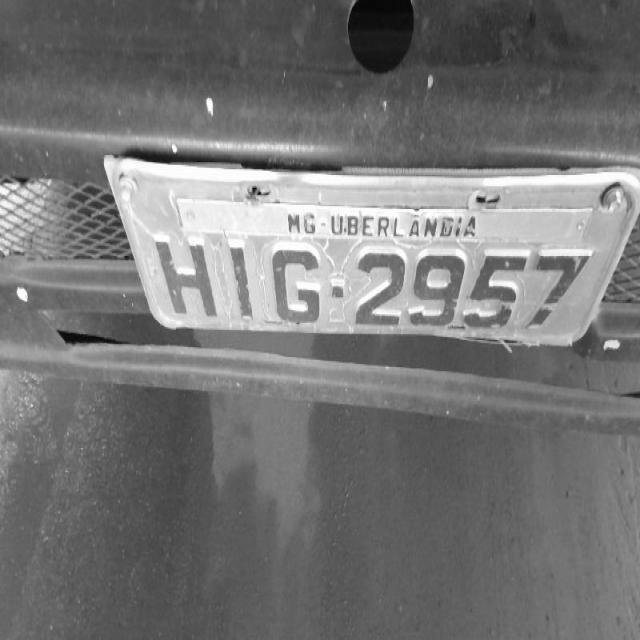placa_antiga: (111, 162, 639, 338)
